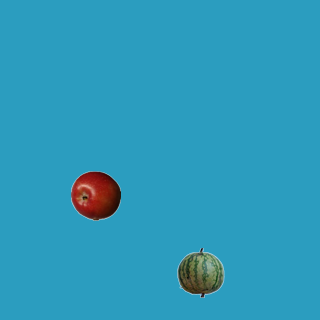Apple Braeburn: (70, 170, 120, 220)
Watermelon: (175, 247, 225, 297)
